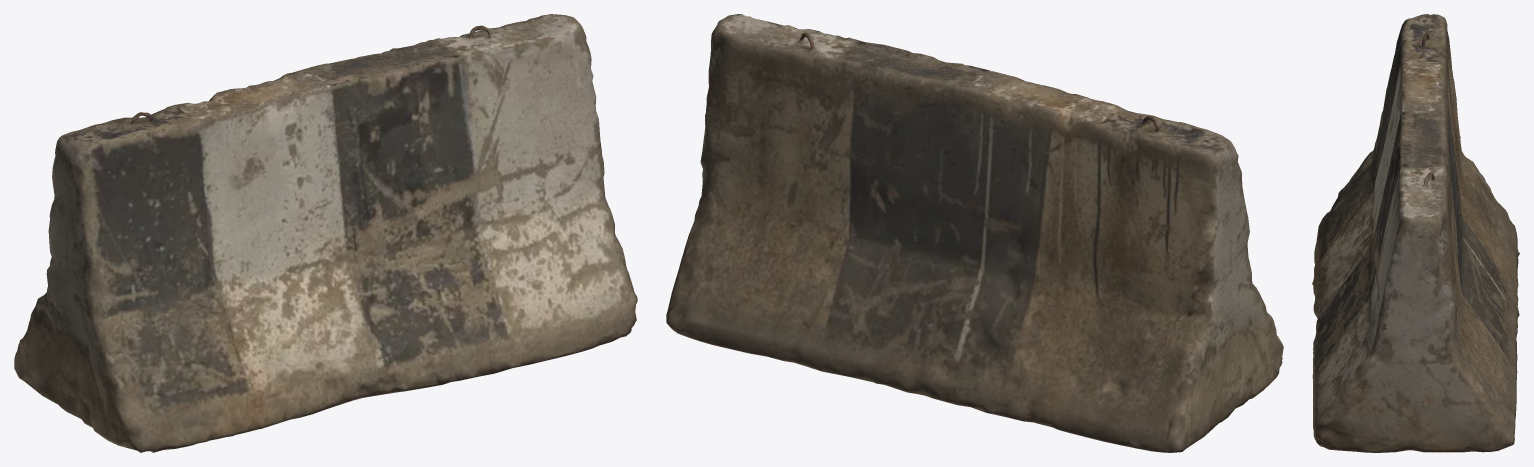
The model's file is concrete_road_barrier.glb.
3 views of the same model, side by side, from view 1: azimuth 30°, elevation 25°; view 2: azimuth 150°, elevation 25°; view 3: azimuth 270°, elevation 25° (orthographic). The views are drawn at different scales.
Parts seen in each view (by area): view 1: concrete_road_barrier_mesh; view 2: concrete_road_barrier_mesh; view 3: concrete_road_barrier_mesh.
Part boxes in pixels (x1,y1,x2,y2): concrete_road_barrier_mesh: (14,14,637,452); concrete_road_barrier_mesh: (666,14,1283,452); concrete_road_barrier_mesh: (1312,14,1519,452).
Size of the model in its own units: 1.54 by 0.8303 by 0.6387.
Materials: 1 (1 with a texture image).
